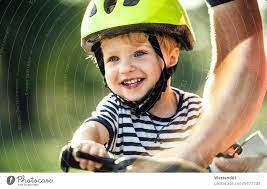helmets: (81, 1, 196, 57)
